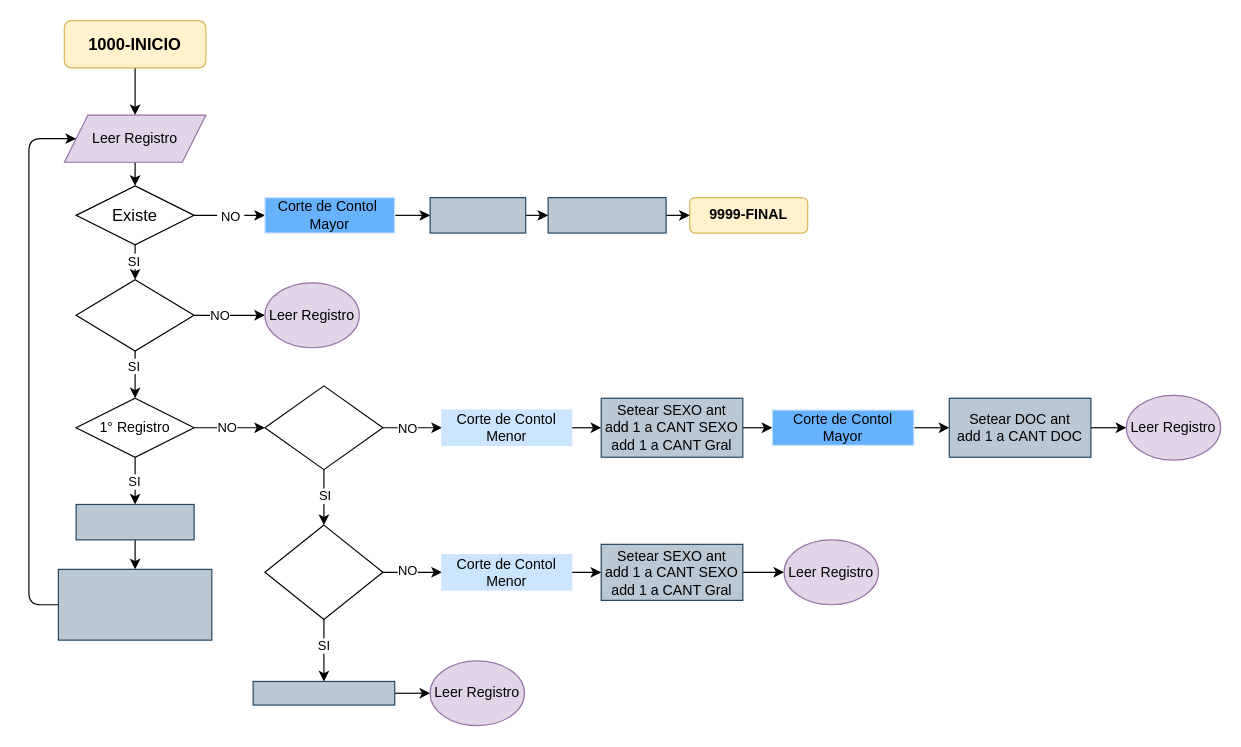
The diagram is 1241 pixels wide and 747 high, and some of its shapes have lost their labels. The box of each missing label's shape, as (x1, y1, x2, y2) in pixels:
Acumular Subtotales: (429, 196, 526, 233)
add 1 a CANT Gral add 1 a CANT DOC add 1 a CANT SEX: (57, 568, 212, 640)
add 1 a CANT SEX: (252, 680, 395, 705)
DOC act = DOC ant: (264, 385, 383, 470)
Mostrar Totales: (547, 196, 666, 233)
Setear DOC y SEXO ant: (75, 503, 194, 540)
SEX act = SEX ant: (264, 524, 383, 620)
TipDoc requerido: (75, 278, 194, 351)
